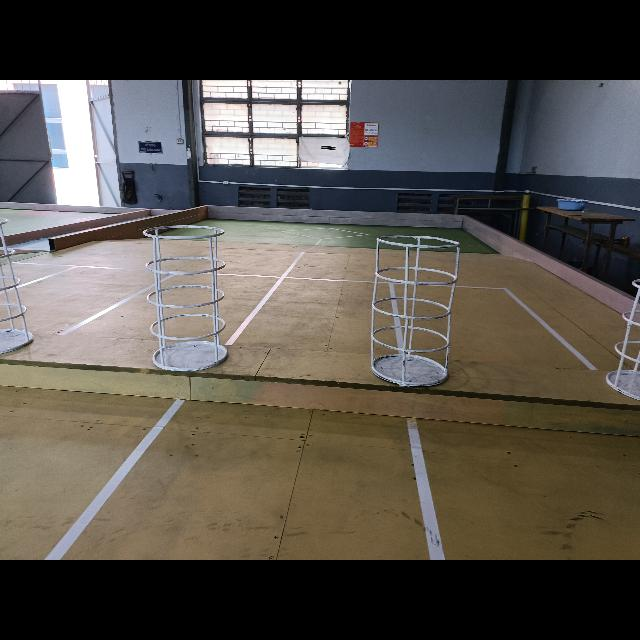S: (370, 232, 462, 388), (141, 223, 230, 374), (0, 217, 35, 357), (605, 277, 640, 401)
